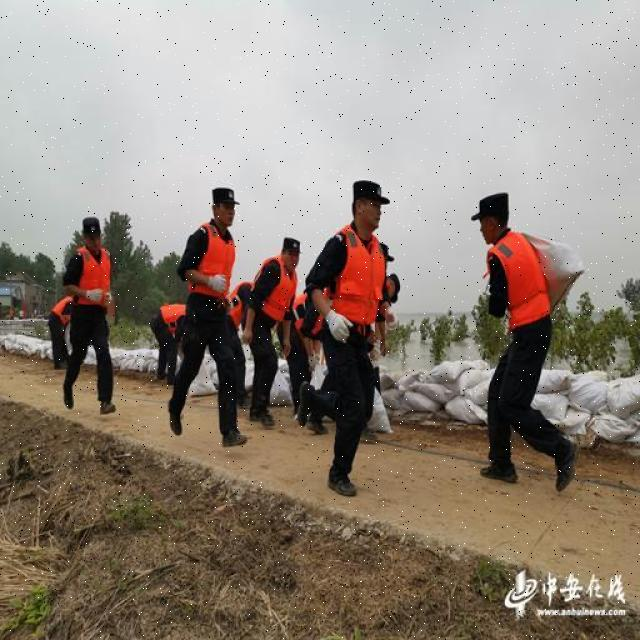rescuer: (457, 183, 588, 495), (321, 175, 395, 502), (184, 182, 244, 452), (246, 229, 305, 431), (64, 212, 118, 406)
